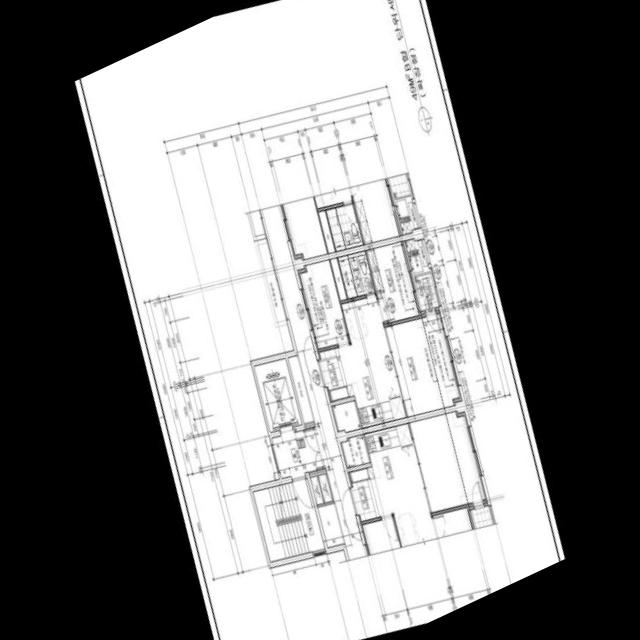background: (75, 0, 565, 640)
space_balconi: (414, 271, 439, 310)
space_bedroom: (297, 259, 349, 348), (367, 241, 421, 323)
space_elevator: (254, 358, 302, 432)
space_elevator_hall: (262, 205, 366, 560)
space_front: (318, 346, 355, 401)
space_kitchen: (342, 296, 406, 427)
space_living_room: (386, 309, 462, 416)
space_other: (288, 355, 314, 423), (318, 503, 344, 547), (331, 400, 361, 432), (331, 257, 347, 300), (318, 473, 333, 502), (310, 476, 324, 504)
space_outdoor_room: (405, 238, 430, 275)
space_staircase: (253, 478, 325, 561)
space_toilet: (338, 251, 375, 298)
